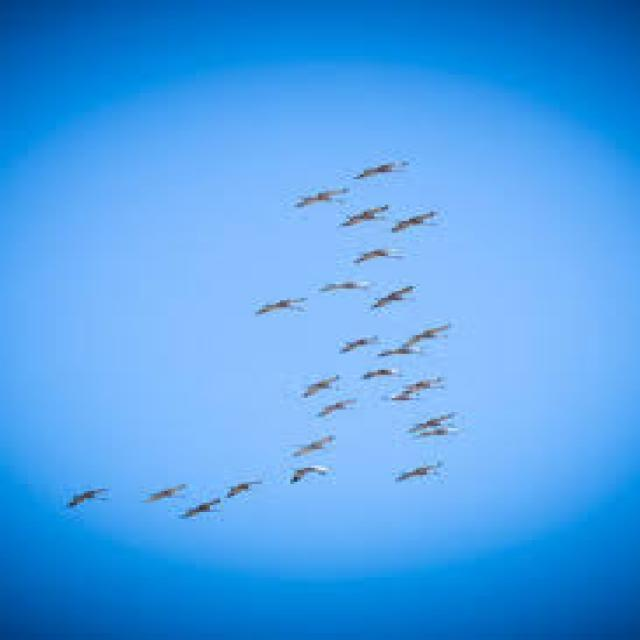bird: (344, 146, 422, 180), (327, 326, 390, 366), (58, 478, 120, 516), (328, 196, 392, 232), (280, 428, 353, 459), (240, 296, 306, 330), (369, 276, 425, 313), (274, 187, 352, 213), (404, 313, 460, 348), (180, 491, 240, 522), (300, 271, 368, 297), (285, 460, 348, 488), (394, 208, 456, 236), (353, 233, 409, 264), (392, 456, 458, 482), (138, 474, 191, 506), (288, 371, 342, 402), (397, 410, 470, 428), (389, 426, 456, 444), (224, 472, 273, 496), (318, 396, 371, 416), (419, 378, 452, 409), (366, 366, 410, 388), (380, 387, 414, 404), (386, 345, 418, 362)
